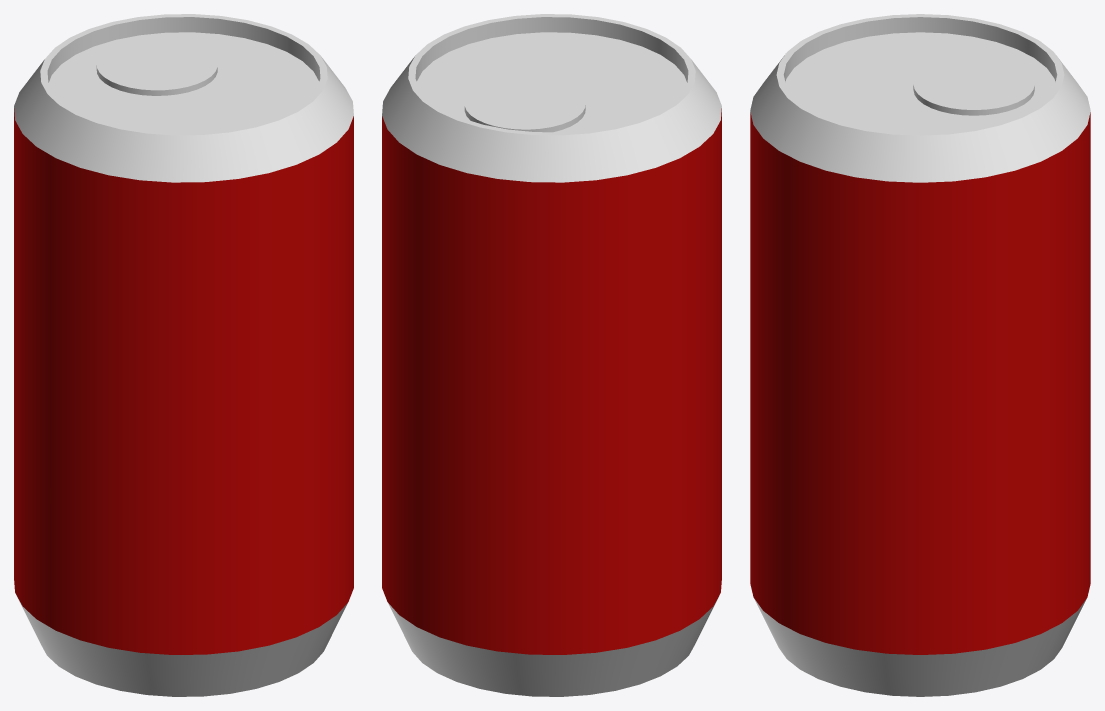
Rendered from item3.fbx.
3 renders of one model, left to right at view 1: azimuth 30°, elevation 25°; view 2: azimuth 150°, elevation 25°; view 3: azimuth 270°, elevation 25°, orthographic.
Parts seen in each view (by area): view 1: Cylinder.002; view 2: Cylinder.002; view 3: Cylinder.002.
Part boxes in pixels (x1=…): Cylinder.002: x1=14, y1=14, x2=353, y2=696; Cylinder.002: x1=382, y1=14, x2=721, y2=696; Cylinder.002: x1=750, y1=14, x2=1090, y2=696.
Bounding box in the file's own units: 200 × 364 × 200.
